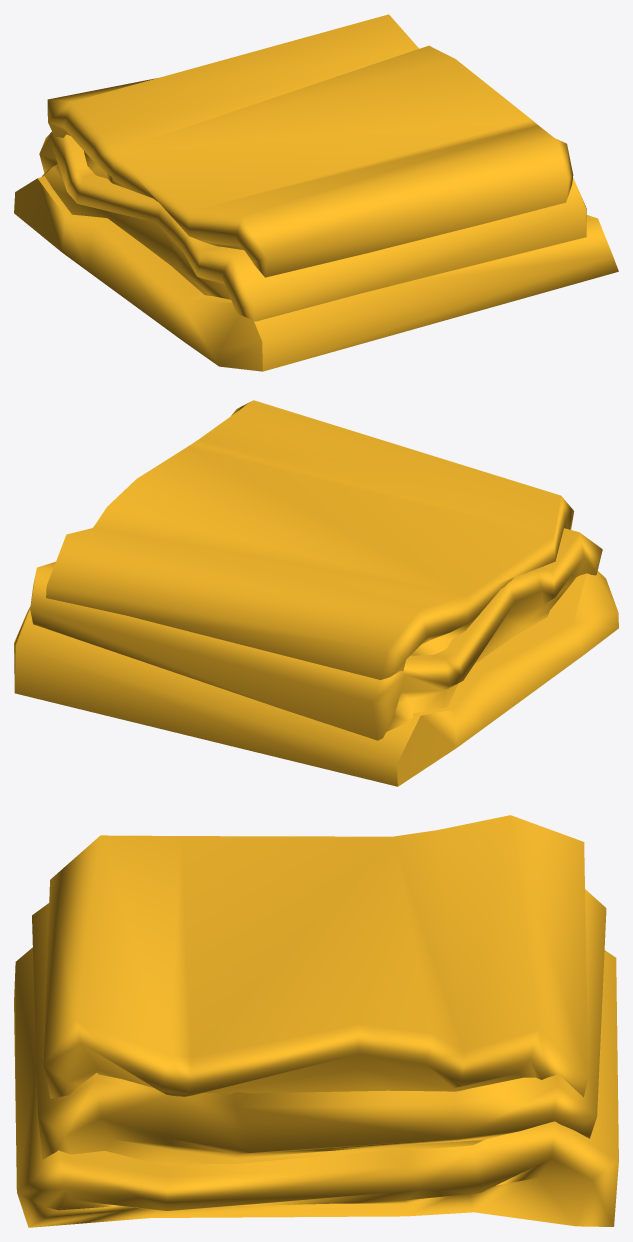
File: clothes_fold1.fbx
The picture shows the model from 3 angles, top to bottom: view 1: azimuth 30°, elevation 25°; view 2: azimuth 150°, elevation 25°; view 3: azimuth 270°, elevation 25°; orthographic projection. The views are drawn at different scales.
Parts seen in each view (by area): view 1: shop_center_1_3566; view 2: shop_center_1_3566; view 3: shop_center_1_3566.
Boxes of the visible parts, x1,y1,x2,y2 form: shop_center_1_3566: (14,14,618,371); shop_center_1_3566: (14,400,618,786); shop_center_1_3566: (14,815,618,1227).
Bounding box in the file's own units: 0.6419 × 0.2202 × 0.6383.
